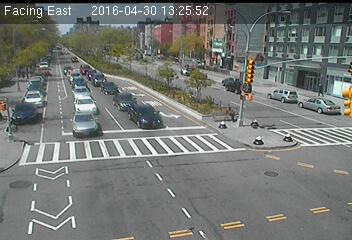neg: (227, 70, 246, 95), (219, 102, 237, 127)
pos: (316, 80, 330, 99)
